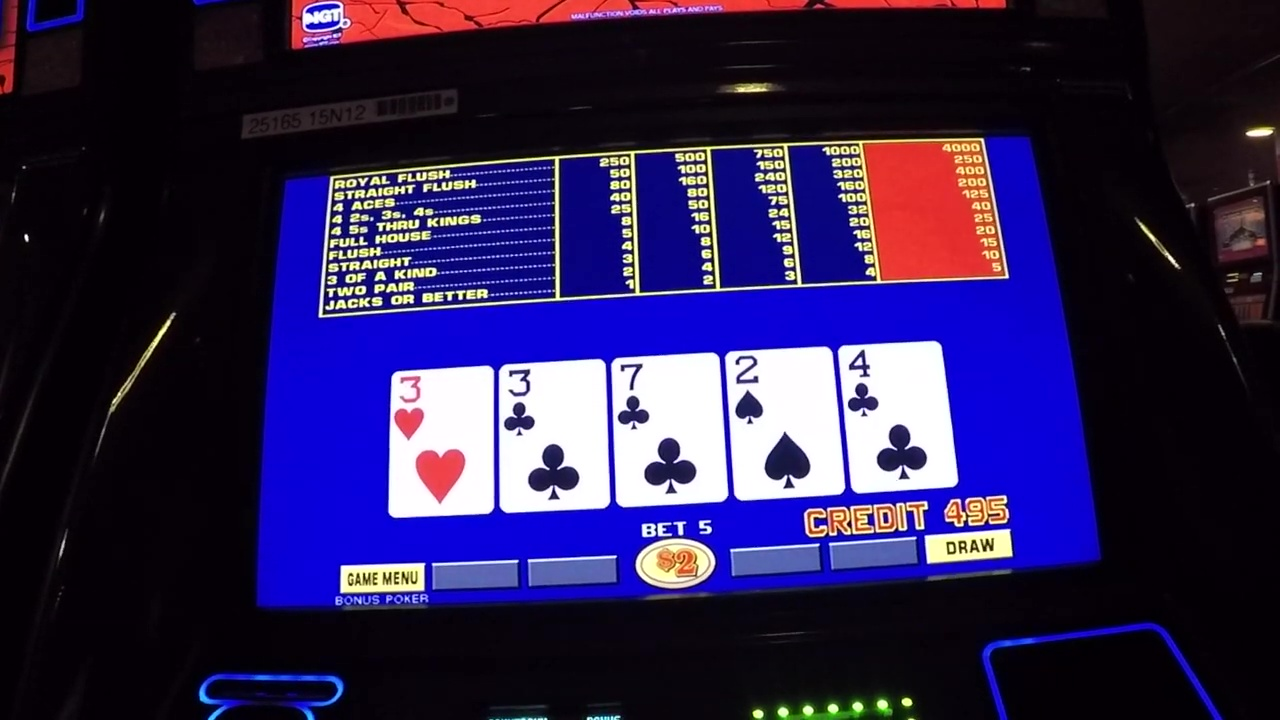C3: (501, 365, 603, 438), (394, 372, 489, 439)
C4: (847, 346, 944, 418)
C7: (614, 357, 718, 433)
S2: (731, 353, 834, 424)
